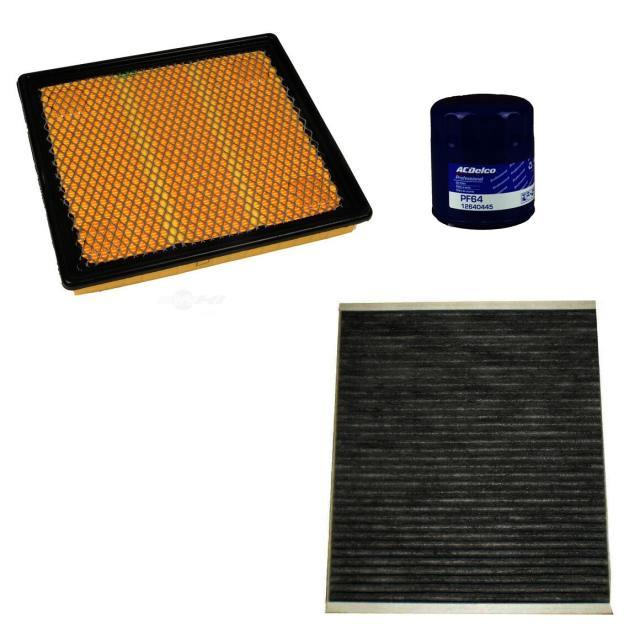air_filter: (0, 28, 374, 298), (332, 302, 618, 619)
oil_filter: (419, 82, 546, 232)
